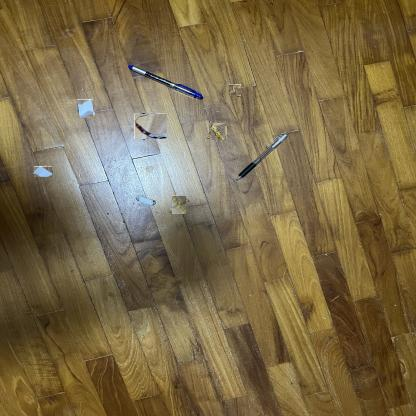dirty: (134, 113, 167, 139), (77, 100, 94, 118), (171, 197, 188, 213), (210, 124, 226, 140), (34, 166, 52, 177), (230, 84, 241, 96)
